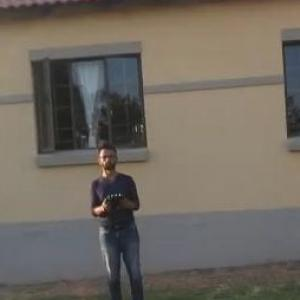follow: (86, 134, 154, 298)
